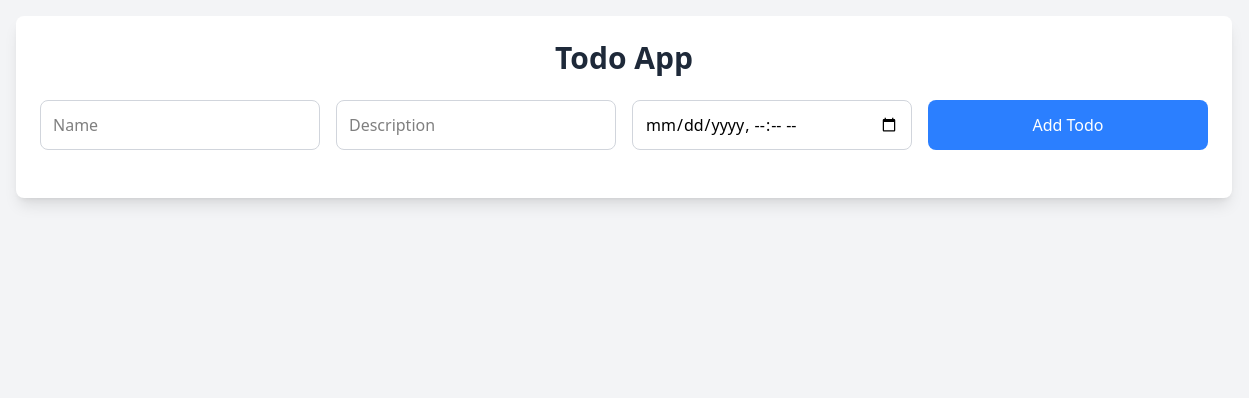
Test: Home › deletes a todo
The image size is (1249, 398).
Type "Test Todo" into the field with placeholder "Name" at (180, 125), box [40,100,320,150]
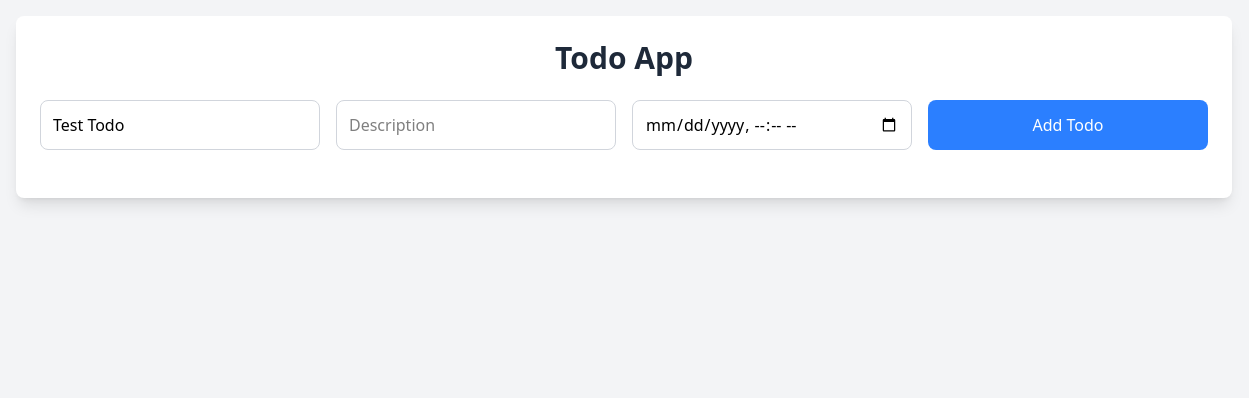
Type "Test Description" into the field with placeholder "Description" at (476, 125), box [336,100,616,150]
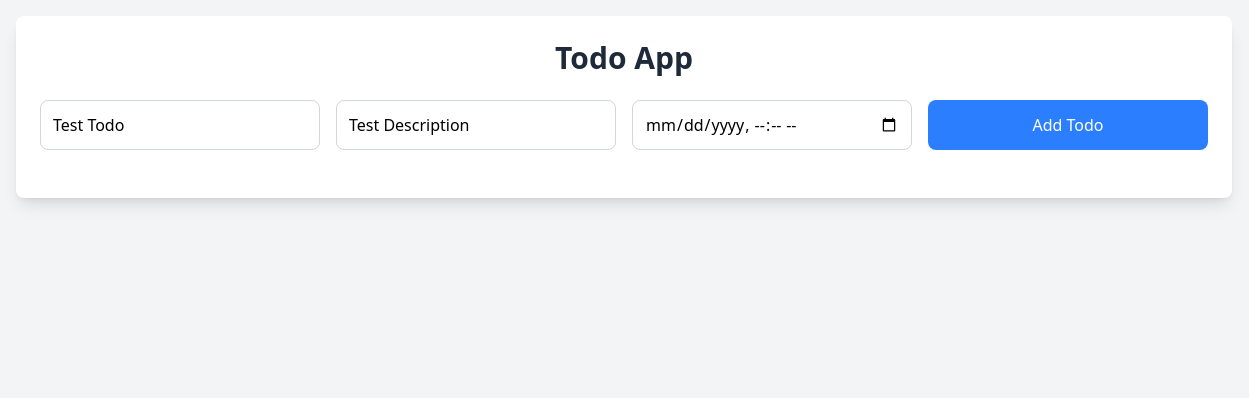
Type "2023-01-01T12:00" into the field with test id "date-input" at (772, 125), box [632,100,912,150]
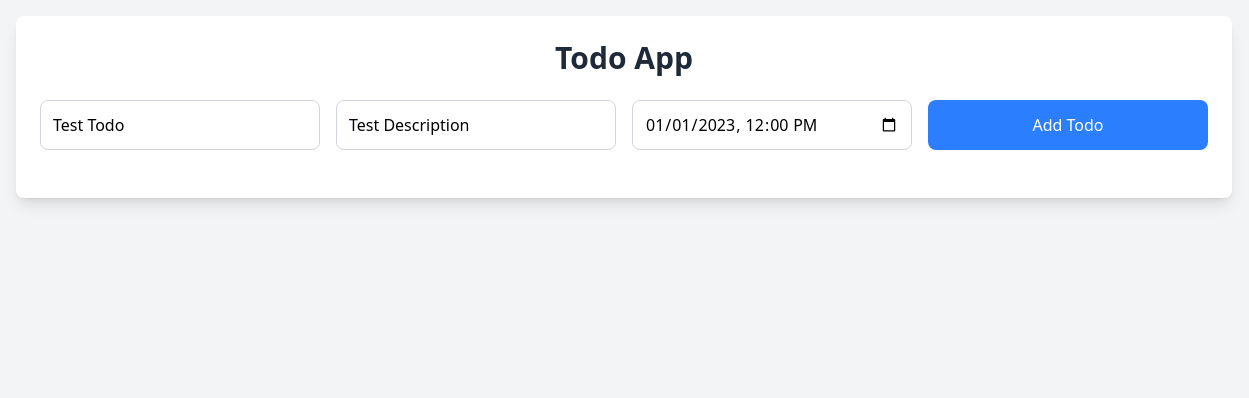
Click the button "Add Todo" at (1068, 125), box [928,100,1208,150]
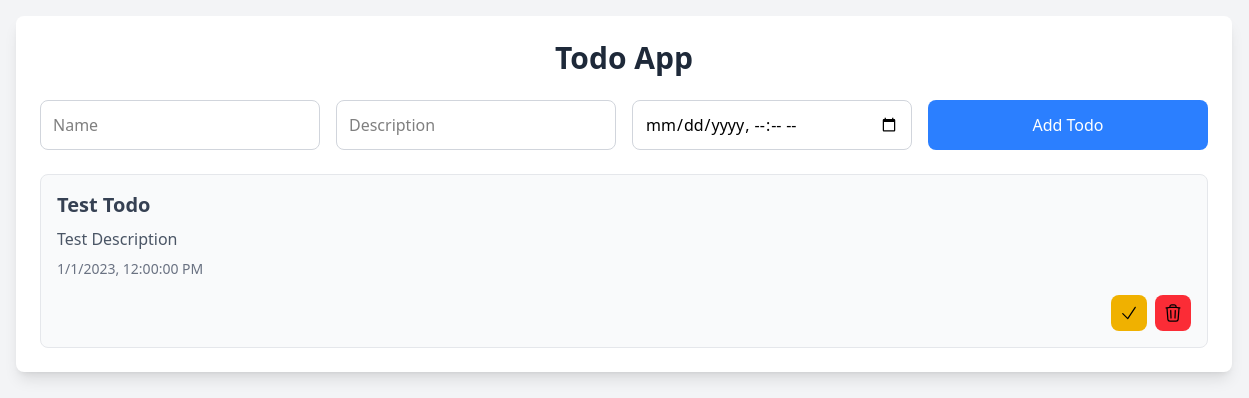
Click the button with test id "delete-button-0" at (1173, 313), box [1155,295,1191,331]
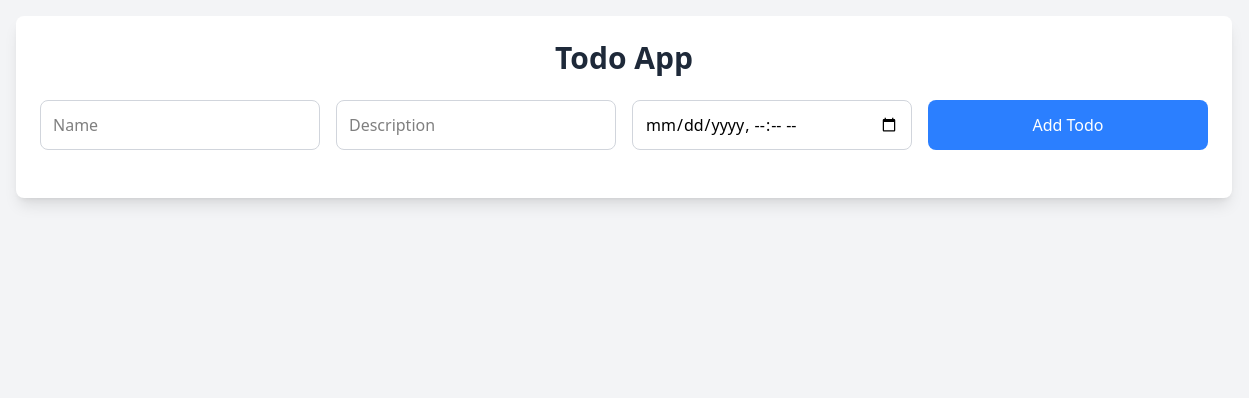
Expected: the heading "Test Todo" is gone
